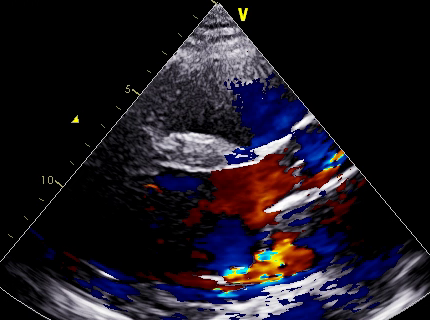AR: (206, 159, 328, 205)
